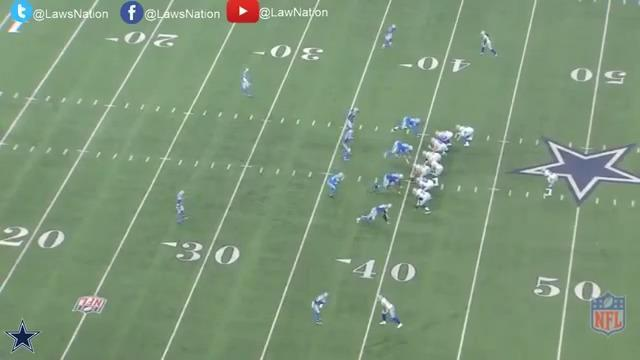defense: (356, 202, 395, 226), (308, 291, 330, 327), (390, 114, 423, 137), (372, 172, 404, 193), (384, 139, 414, 161), (325, 170, 344, 200), (341, 126, 356, 164), (173, 189, 188, 227), (343, 106, 361, 137), (380, 23, 399, 52), (239, 66, 255, 100)
oline: (413, 186, 433, 215), (415, 174, 435, 199), (423, 150, 444, 172), (429, 137, 449, 159), (412, 163, 432, 179)
qb: (429, 158, 443, 185)
skill: (377, 294, 405, 331), (478, 30, 500, 60), (453, 124, 475, 149), (542, 167, 558, 197), (435, 131, 455, 150)
